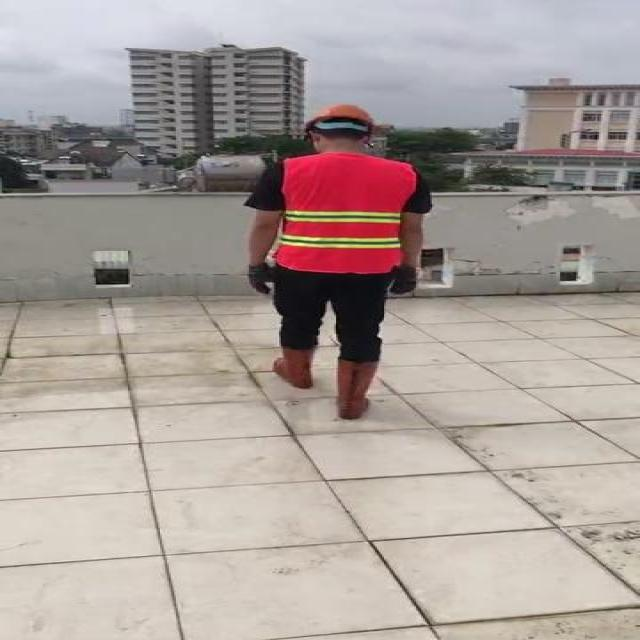boots: (334, 358, 379, 419), (272, 342, 318, 389)
hand_glove: (390, 267, 420, 296), (247, 261, 274, 293)
head_helmet: (306, 102, 378, 130)
person: (242, 102, 434, 422)
vest: (279, 153, 411, 271)
